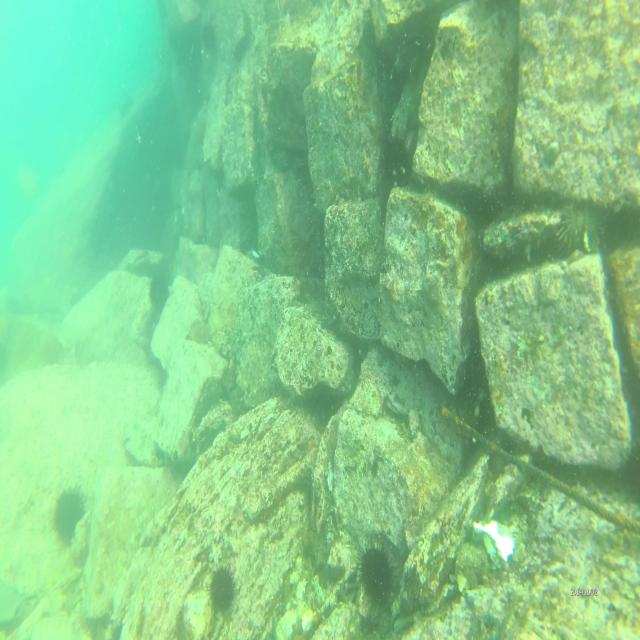echinus: (557, 196, 608, 257), (358, 539, 397, 609), (52, 484, 89, 544), (378, 134, 414, 190), (207, 560, 238, 616), (149, 270, 173, 318)
